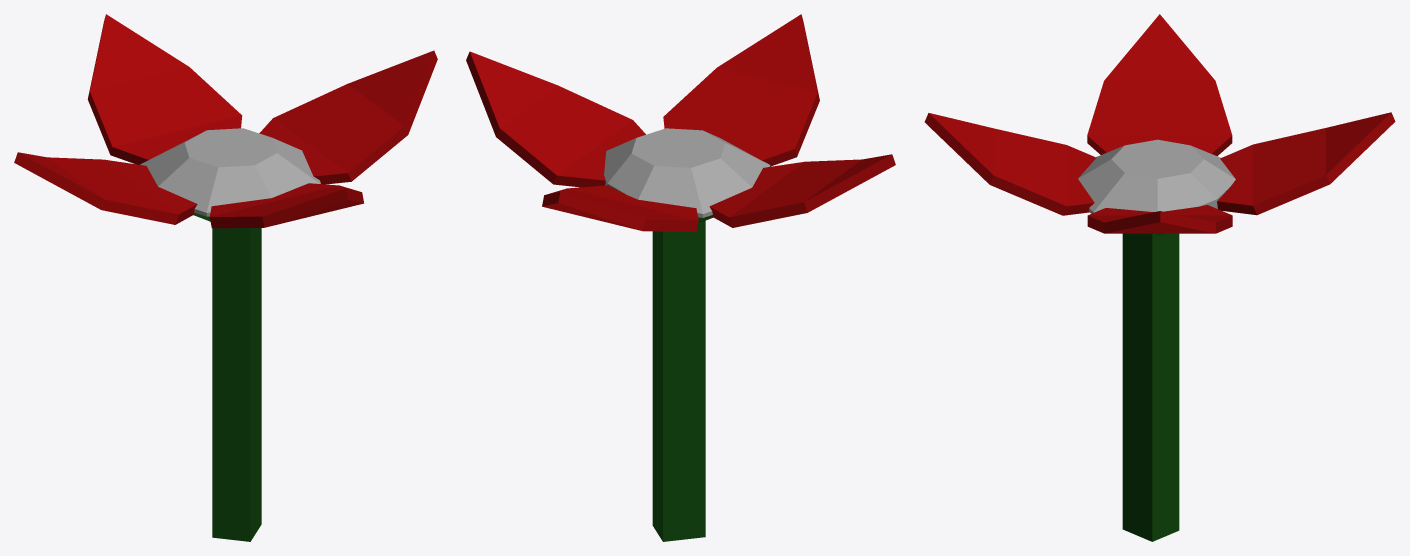
Rendered from redwhiteflower.obj.
3 renders of one model, left to right at view 1: azimuth 30°, elevation 25°; view 2: azimuth 150°, elevation 25°; view 3: azimuth 270°, elevation 25°, orthographic. The views are drawn at different scales.
Parts seen in each view (by area): view 1: Cube.001_Cube.002; view 2: Cube.001_Cube.002; view 3: Cube.001_Cube.002.
Part boxes in pixels (x1=…): Cube.001_Cube.002: x1=14, y1=14, x2=437, y2=541; Cube.001_Cube.002: x1=466, y1=14, x2=895, y2=541; Cube.001_Cube.002: x1=924, y1=14, x2=1395, y2=541.
Bounding box in the file's own units: 0.0887 × 0.0856 × 0.0881.
